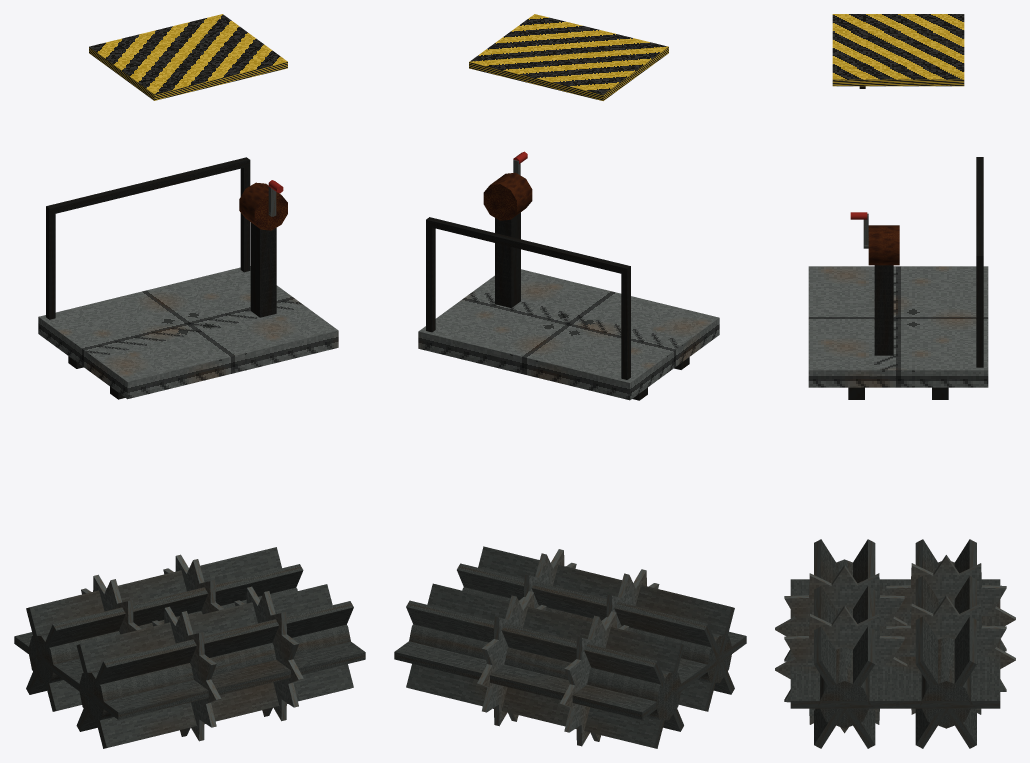
The model's file is winch.glb.
3 views of the same model, side by side, from view 1: azimuth 30°, elevation 25°; view 2: azimuth 150°, elevation 25°; view 3: azimuth 270°, elevation 25° (orthographic).
Parts seen in each view (by area): view 1: roller_b, platform, roller_a, hatch; view 2: roller_a, platform, roller_b, hatch; view 3: platform, roller_b, roller_a, hatch.
Boxes of the visible parts, x1=… form: roller_b: x1=65, y1=584, x2=365, y2=748; platform: x1=38, y1=157, x2=338, y2=399; roller_a: x1=14, y1=547, x2=303, y2=711; hatch: x1=89, y1=14, x2=287, y2=100; roller_a: x1=394, y1=583, x2=695, y2=748; platform: x1=418, y1=172, x2=719, y2=400; roller_b: x1=457, y1=546, x2=746, y2=711; hatch: x1=469, y1=14, x2=668, y2=100; platform: x1=808, y1=157, x2=988, y2=399; roller_b: x1=775, y1=539, x2=907, y2=748; roller_a: x1=886, y1=539, x2=1015, y2=748; hatch: x1=832, y1=14, x2=964, y2=88.
Bounding box in the file's own units: 2.4 × 6.08 × 2.01.
Materials: 8 (7 with a texture image).
